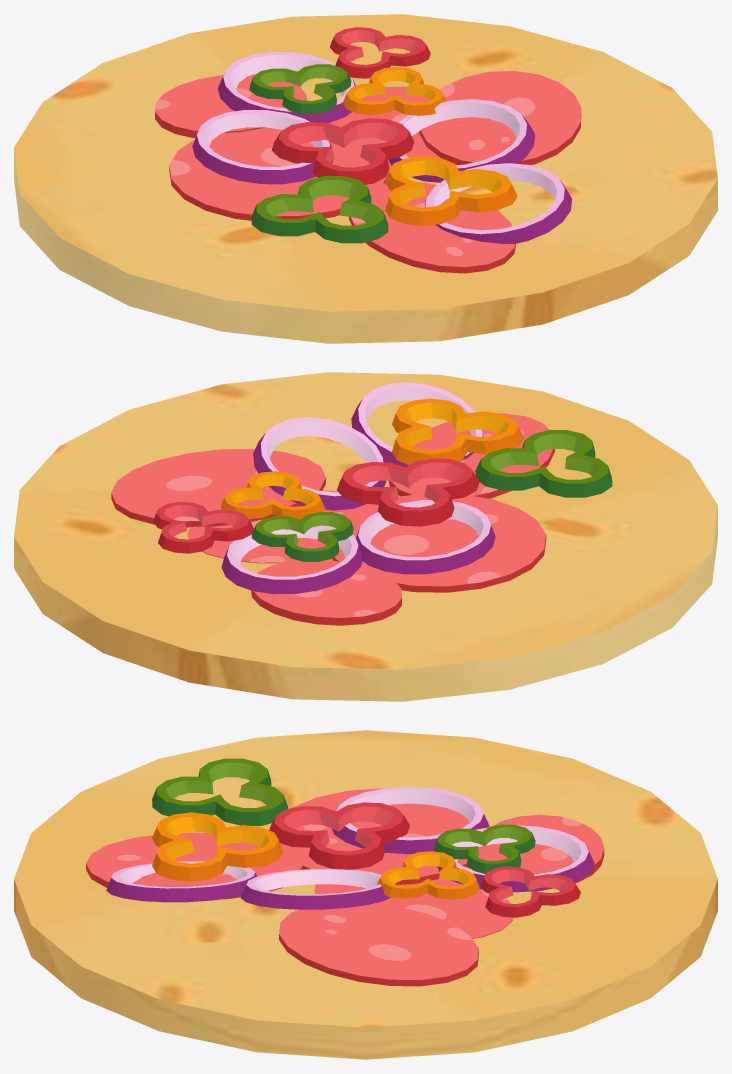
Rendered from taco_Carne_Cebolla_Pimiento.glb.
3 renders of one model, top to bottom at view 1: azimuth 30°, elevation 25°; view 2: azimuth 150°, elevation 25°; view 3: azimuth 270°, elevation 25°, orthographic.
Visible parts, largest first — view 1: tortilla.002, Ham_Slice_Ham_0.002, Pepper_Slice_Pepper_0, Pepper_Slice_Pepper_0.001, Onion_Slice_Onion_0.001, Onion_Slice_Onion_0; view 2: tortilla.002, Ham_Slice_Ham_0.002, Pepper_Slice_Pepper_0, Pepper_Slice_Pepper_0.001, Onion_Slice_Onion_0, Onion_Slice_Onion_0.001; view 3: tortilla.002, Ham_Slice_Ham_0.002, Pepper_Slice_Pepper_0, Pepper_Slice_Pepper_0.001, Onion_Slice_Onion_0.001, Onion_Slice_Onion_0.
Boxes of the visible parts, x1,y1,x2,y2 form: tortilla.002: (14,14,717,343); Ham_Slice_Ham_0.002: (155,71,581,273); Pepper_Slice_Pepper_0: (251,118,517,243); Pepper_Slice_Pepper_0.001: (249,27,445,115); Onion_Slice_Onion_0.001: (388,99,571,244); Onion_Slice_Onion_0: (192,52,355,184); tortilla.002: (14,372,717,701); Ham_Slice_Ham_0.002: (111,413,554,625); Pepper_Slice_Pepper_0: (337,398,612,526); Pepper_Slice_Pepper_0.001: (153,471,353,561); Onion_Slice_Onion_0: (221,500,495,594); Onion_Slice_Onion_0.001: (253,382,483,510); tortilla.002: (14,730,717,1059); Ham_Slice_Ham_0.002: (86,788,604,986); Pepper_Slice_Pepper_0: (152,758,409,881); Pepper_Slice_Pepper_0.001: (377,824,580,917); Onion_Slice_Onion_0.001: (106,861,390,909); Onion_Slice_Onion_0: (331,786,594,892).
Bounding box in the file's own units: 0.2118 × 0.0248 × 0.2118.
4 materials, 4 textured.
